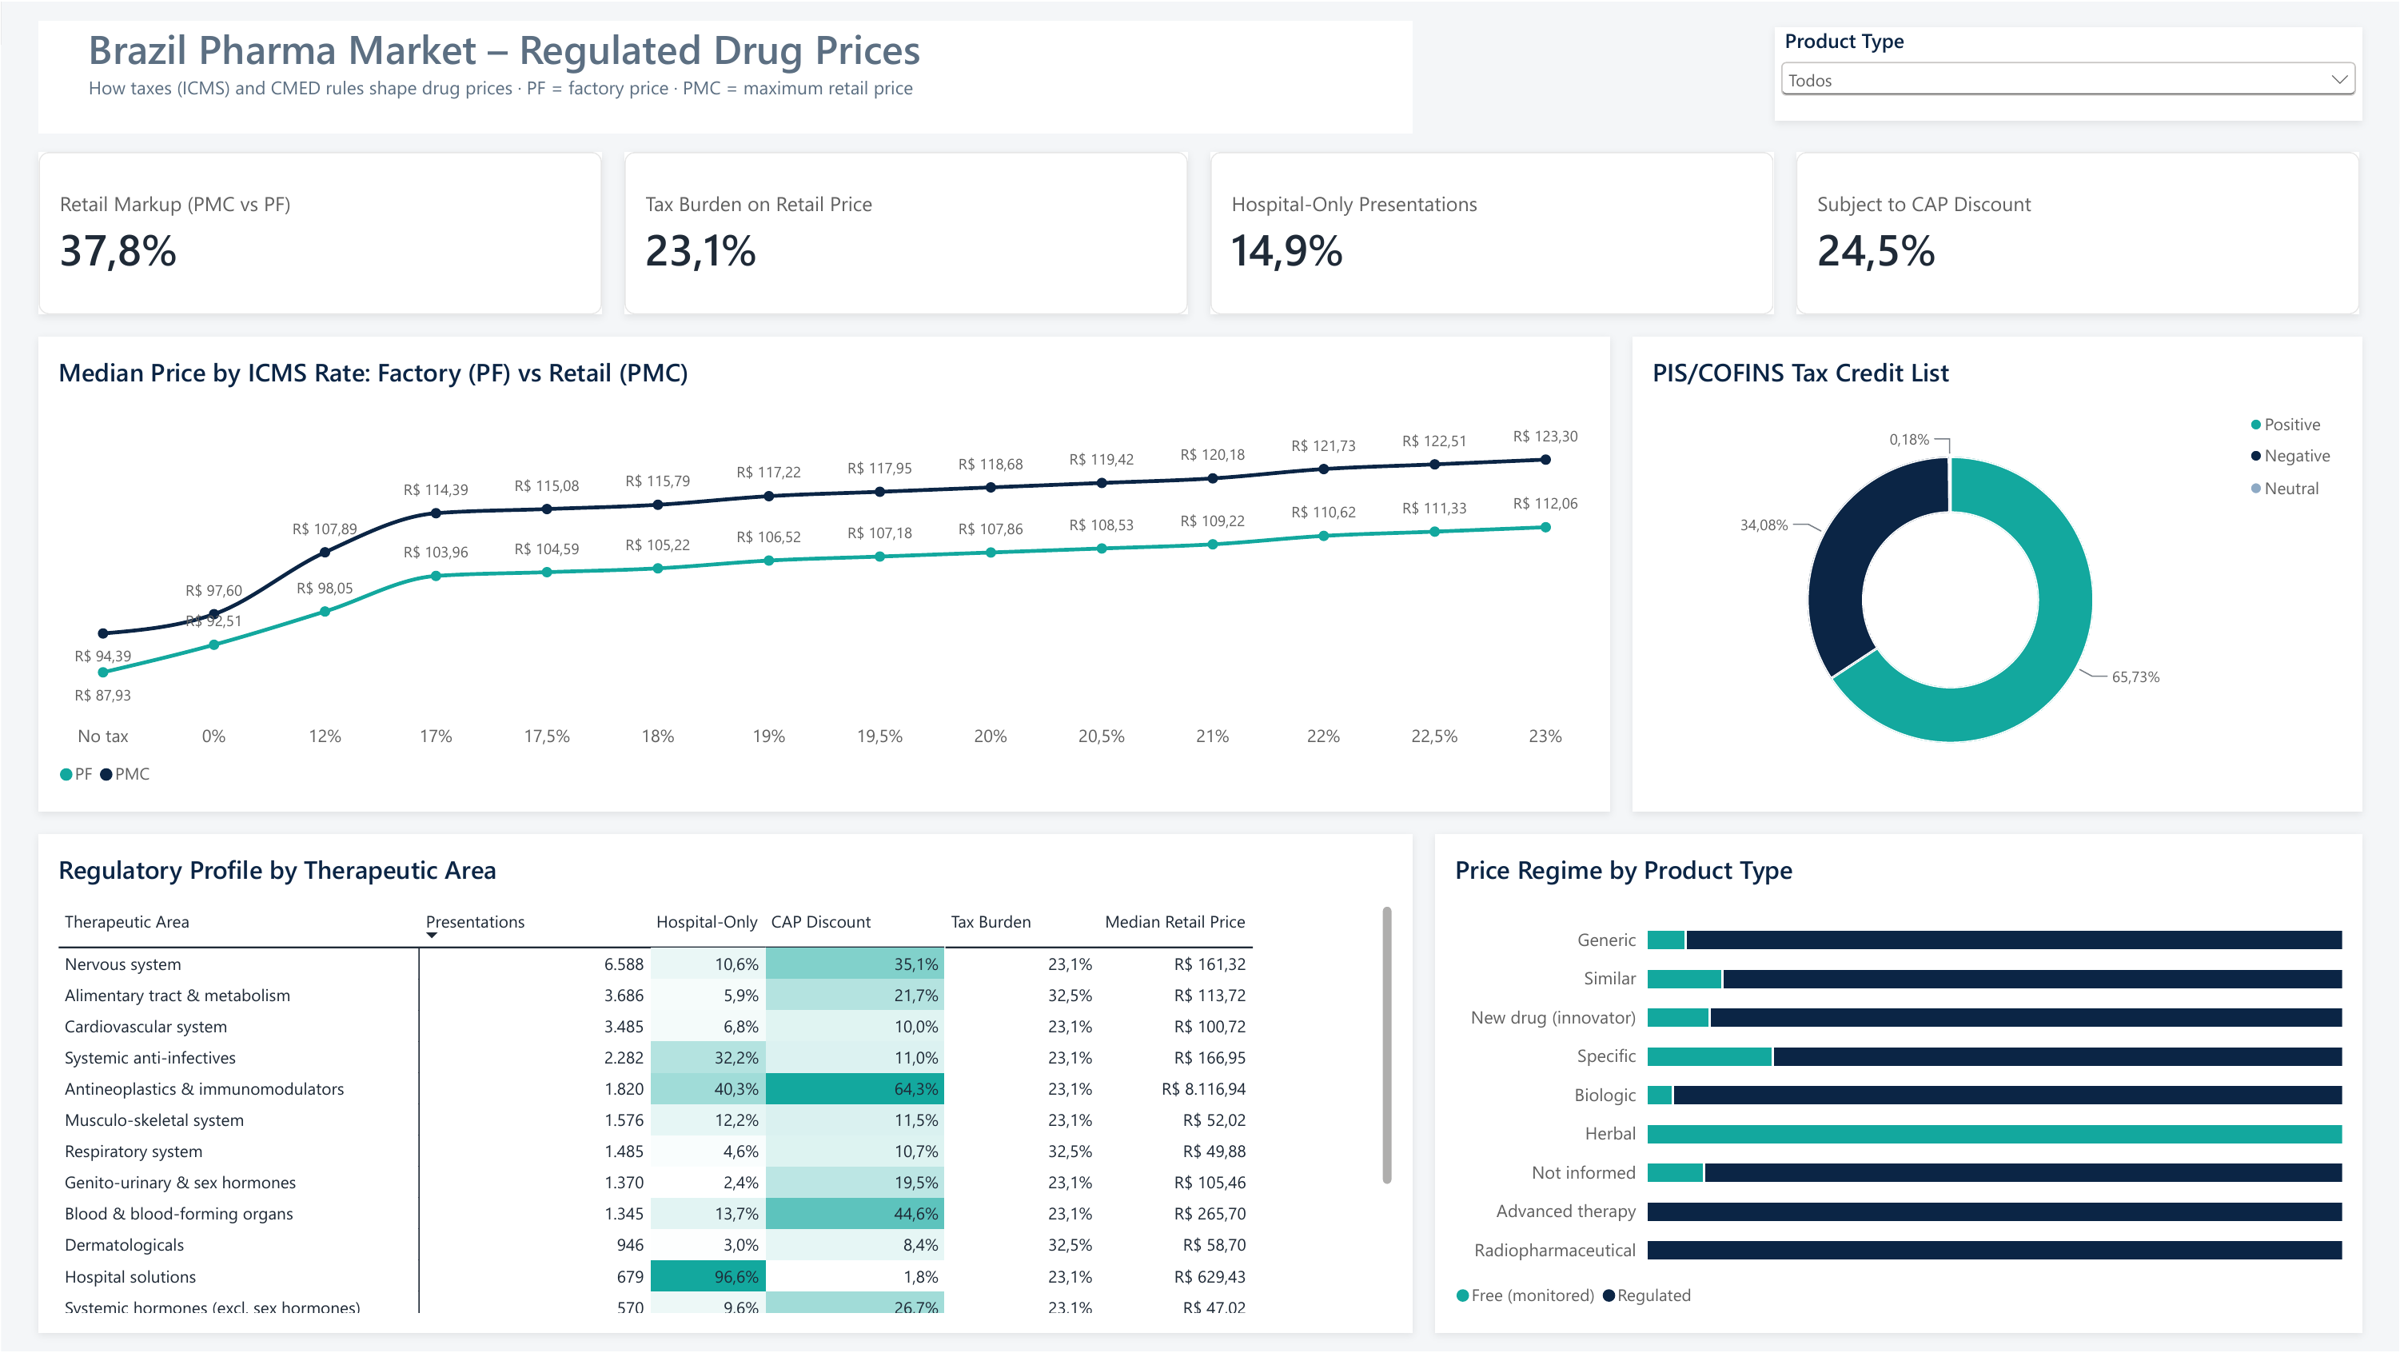

What the dashboard file says about the page in this screenshot:
{"tool":"powerbi","page":{"name":"Tax & Regulation","canvas":[1920,1080],"ordinal":2},"visuals":[{"type":"textbox","box":[30,15,1100,90],"z":0},{"type":"slicer","fields":{"Values":["fact_presentation.product_type"]},"box":[1420,20,470,75],"z":1000},{"type":"cardVisual","fields":{"Data":["_Measures.Retail Markup (PMC vs PF) %"]},"box":[30,120,451,130],"z":2000},{"type":"cardVisual","fields":{"Data":["_Measures.Tax Burden on PMC %"]},"box":[499,120,451,130],"z":3000},{"type":"cardVisual","fields":{"Data":["_Measures.Hospital Only %"]},"box":[968,120,451,130],"z":4000},{"type":"cardVisual","fields":{"Data":["_Measures.CAP Discount %"]},"box":[1437,120,451,130],"z":5000},{"type":"lineChart","title":"Median Price by ICMS Rate: Factory (PF) vs Retail (PMC)","fields":{"Category":["fact_price_by_icms.icms_rate"],"Series":["fact_price_by_icms.price_type"],"Y":["_Measures.Median Price by ICMS"]},"box":[30,268,1258,380],"z":6000},{"type":"pivotTable","title":"Regulatory Profile by Therapeutic Area","fields":{"Rows":["fact_presentation.anatomical_group"],"Values":["_Measures.Presentations","_Measures.Hospital Only %","_Measures.CAP Discount %","_Measures.Tax Burden on PMC %","_Measures.Median PMC (SP)"]},"box":[30,666,1100,399],"z":7000},{"type":"hundredPercentStackedBarChart","title":"Price Regime by Product Type","fields":{"Category":["fact_presentation.product_type"],"Series":["fact_presentation.price_regime"],"Y":["_Measures.Presentations"]},"box":[1148,666,742,399],"z":8000},{"type":"donutChart","title":"PIS/COFINS Tax Credit List","fields":{"Category":["fact_presentation.pis_cofins_list"],"Y":["_Measures.Presentations"]},"box":[1306,268,584,380],"z":9000}]}

Visuals, with their boxes in screenshot pixels (x1, y1, x2, y2), scaled from the page's 1920x1080 canvas onto the 2400x1353 screenshot:
textbox: Rect(38, 19, 1412, 132)
slicer - fact_presentation.product_type: Rect(1775, 25, 2362, 119)
cardVisual - _Measures.Retail Markup (PMC vs PF) %: Rect(38, 150, 601, 313)
cardVisual - _Measures.Tax Burden on PMC %: Rect(624, 150, 1188, 313)
cardVisual - _Measures.Hospital Only %: Rect(1210, 150, 1774, 313)
cardVisual - _Measures.CAP Discount %: Rect(1796, 150, 2360, 313)
"Median Price by ICMS Rate: Factory (PF) vs Retail (PMC)" lineChart: Rect(38, 336, 1610, 812)
"Regulatory Profile by Therapeutic Area" pivotTable: Rect(38, 834, 1412, 1334)
"Price Regime by Product Type" hundredPercentStackedBarChart: Rect(1435, 834, 2362, 1334)
"PIS/COFINS Tax Credit List" donutChart: Rect(1632, 336, 2362, 812)
